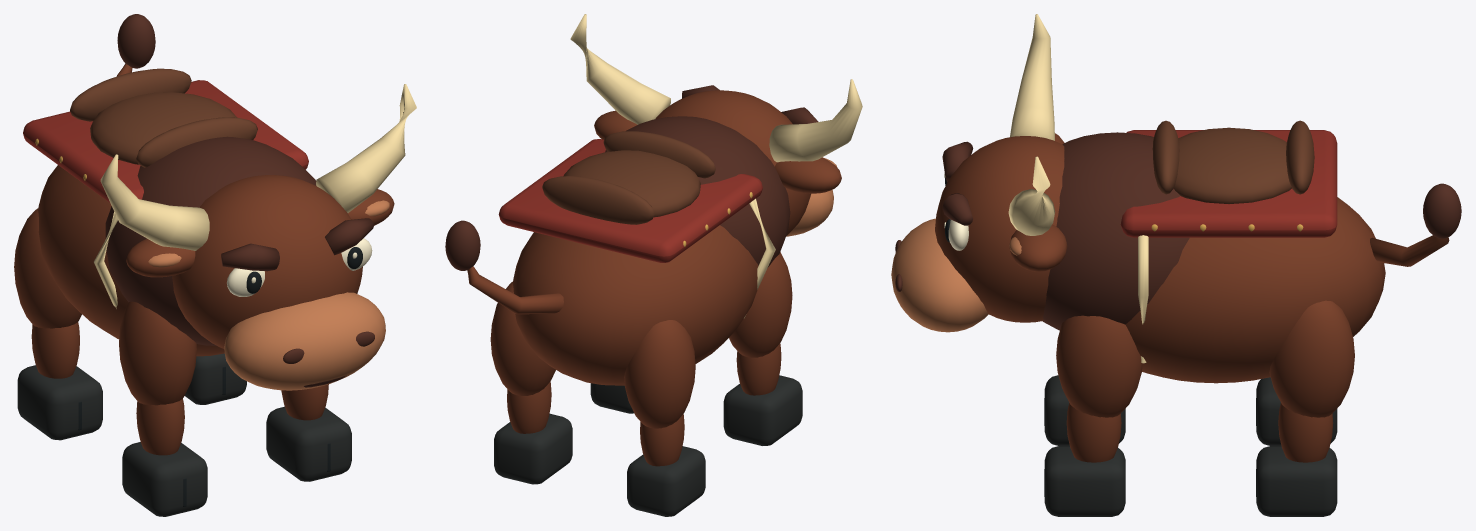
File: bull.glb
3 views of the same model, side by side, from view 1: azimuth 30°, elevation 25°; view 2: azimuth 150°, elevation 25°; view 3: azimuth 270°, elevation 25° (orthographic). The views are drawn at different scales.
Visible parts, largest first — view 1: Bull_Forehead, Broad_Muzzle, Powerful_Shoulders, Bull_Barrel, Saddle_Blanket, Thigh_LF, Leather_Saddle, Hoof_RF, Hoof_LF, Hoof_LB, Swept_Horn_-1, Swept_Horn_1 (+14 smaller); view 2: Bull_Barrel, Saddle_Blanket, Powerful_Shoulders, Thigh_LB, Leather_Saddle, Bull_Forehead, Hoof_LF, Hoof_RB, Hoof_LB, Thigh_LF, Saddle_Rim_-0.62, Thigh_RB (+13 smaller); view 3: Bull_Barrel, Powerful_Shoulders, Bull_Forehead, Saddle_Blanket, Leather_Saddle, Thigh_RB, Thigh_RF, Broad_Muzzle, Hoof_RF, Hoof_RB, Swept_Horn_-1, Shin_RB (+12 smaller).
Boxes of the visible parts, bbox=[...] form: Bull_Forehead: bbox=[172, 175, 362, 348]; Broad_Muzzle: bbox=[224, 292, 385, 390]; Powerful_Shoulders: bbox=[105, 136, 316, 346]; Bull_Barrel: bbox=[38, 165, 224, 356]; Saddle_Blanket: bbox=[23, 80, 308, 202]; Thigh_LF: bbox=[119, 301, 196, 405]; Leather_Saddle: bbox=[90, 92, 236, 164]; Hoof_RF: bbox=[266, 406, 351, 481]; Hoof_LF: bbox=[122, 442, 207, 516]; Hoof_LB: bbox=[17, 365, 102, 440]; Swept_Horn_-1: bbox=[100, 154, 209, 250]; Swept_Horn_1: bbox=[316, 84, 416, 212]; Bull_Barrel: bbox=[512, 225, 758, 385]; Saddle_Blanket: bbox=[498, 139, 762, 262]; Powerful_Shoulders: bbox=[605, 116, 790, 267]; Thigh_LB: bbox=[624, 320, 695, 428]; Leather_Saddle: bbox=[563, 150, 700, 217]; Bull_Forehead: bbox=[655, 90, 810, 236]; Hoof_LF: bbox=[723, 375, 802, 445]; Hoof_RB: bbox=[494, 413, 572, 484]; Hoof_LB: bbox=[627, 446, 705, 516]; Thigh_LF: bbox=[729, 252, 792, 357]; Saddle_Rim_-0.62: bbox=[542, 176, 654, 224]; Thigh_RB: bbox=[490, 281, 555, 395]; Bull_Barrel: bbox=[1125, 197, 1385, 383]; Powerful_Shoulders: bbox=[1042, 132, 1189, 330]; Bull_Forehead: bbox=[935, 136, 1064, 322]; Saddle_Blanket: bbox=[1120, 130, 1337, 237]; Leather_Saddle: bbox=[1174, 127, 1291, 203]; Thigh_RB: bbox=[1269, 300, 1354, 417]; Thigh_RF: bbox=[1056, 315, 1142, 417]; Broad_Muzzle: bbox=[891, 218, 988, 332]; Hoof_RF: bbox=[1044, 446, 1125, 516]; Hoof_RB: bbox=[1256, 446, 1337, 516]; Swept_Horn_-1: bbox=[1010, 14, 1054, 140]; Shin_RB: bbox=[1278, 403, 1333, 462].
Bounding box in the file's own units: 2.27 × 2.64 × 3.53.
